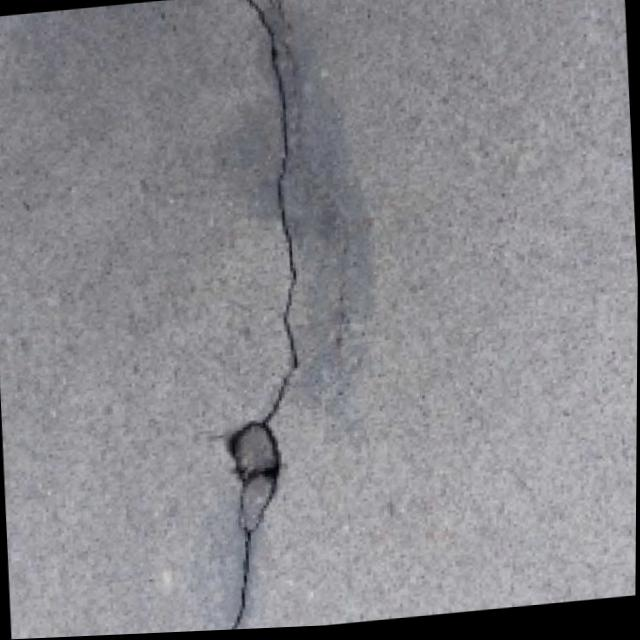Crack: (153, 0, 334, 635)
